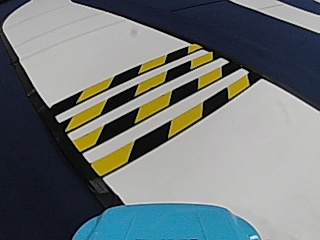bump: (62, 54, 198, 151)
